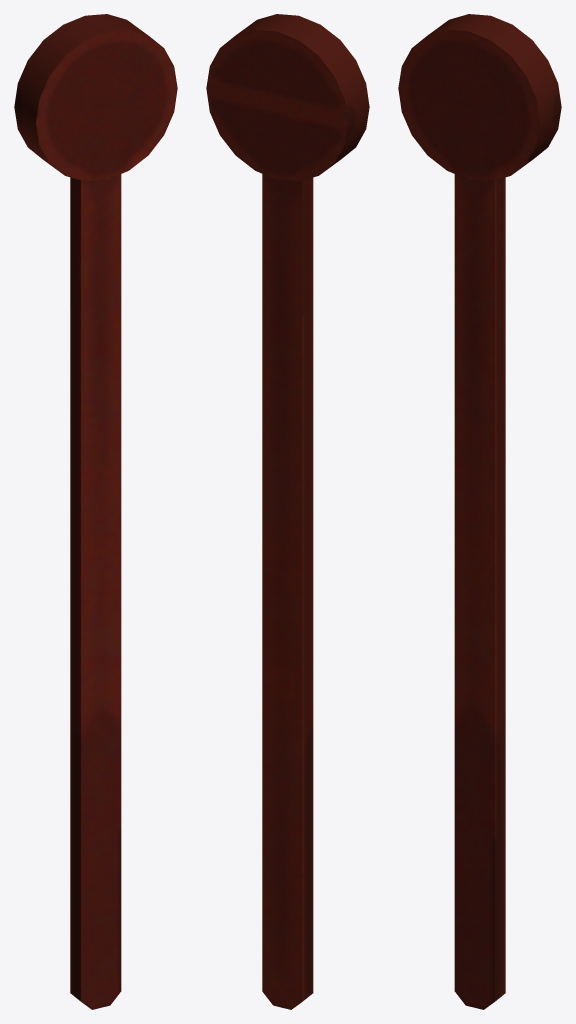
File: pendulumHand.glb
3 views of the same model, side by side, from view 1: azimuth 30°, elevation 25°; view 2: azimuth 150°, elevation 25°; view 3: azimuth 330°, elevation 25° (orthographic).
Parts seen in each view (by area): view 1: Khung_treo.002; view 2: Khung_treo.002; view 3: Khung_treo.002.
Boxes of the visible parts, x1,y1,x2,y2 form: Khung_treo.002: (14,14,177,1009); Khung_treo.002: (206,14,369,1009); Khung_treo.002: (398,14,561,1009).
Size of the model in its own units: 0.3337 by 2.2 by 0.088.
1 material, 1 textured.
